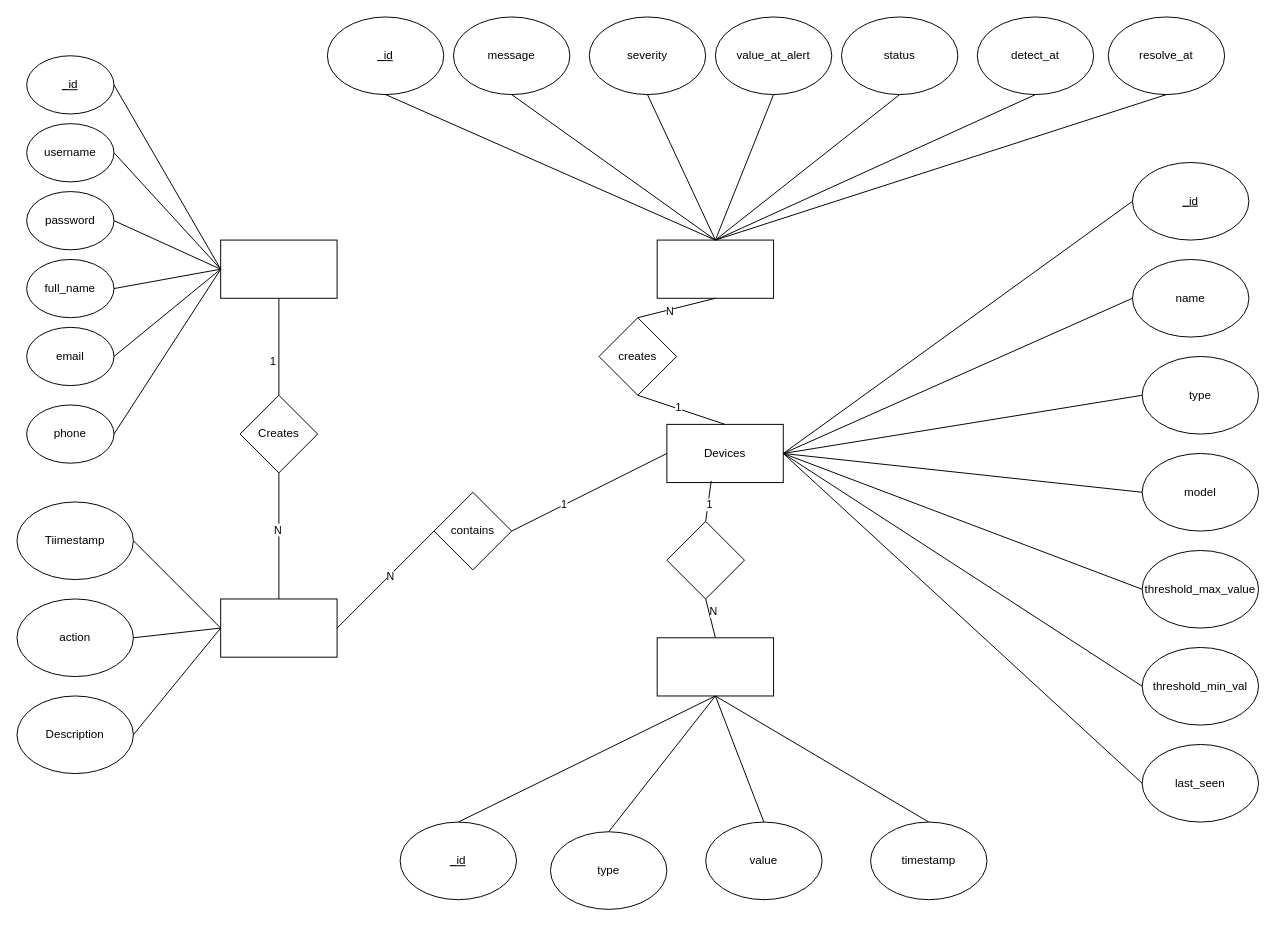
This 1276x926 diagram has some shape labels left out. Each missing label, with the centre of its shape:
"Activity Logs" belongs at (278,627).
"Alert" belongs at (715,268).
"has" belongs at (705,559).
"Sensor_data" belongs at (715,666).
"Users" belongs at (278,268).
